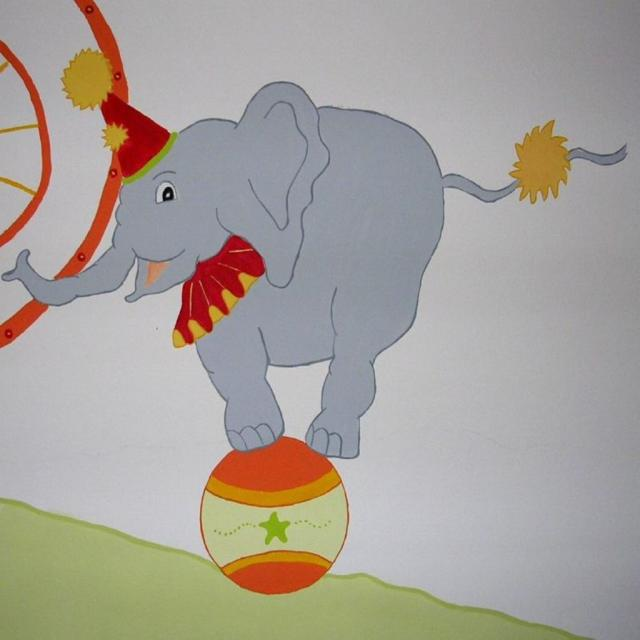elephant: (82, 64, 584, 500)
